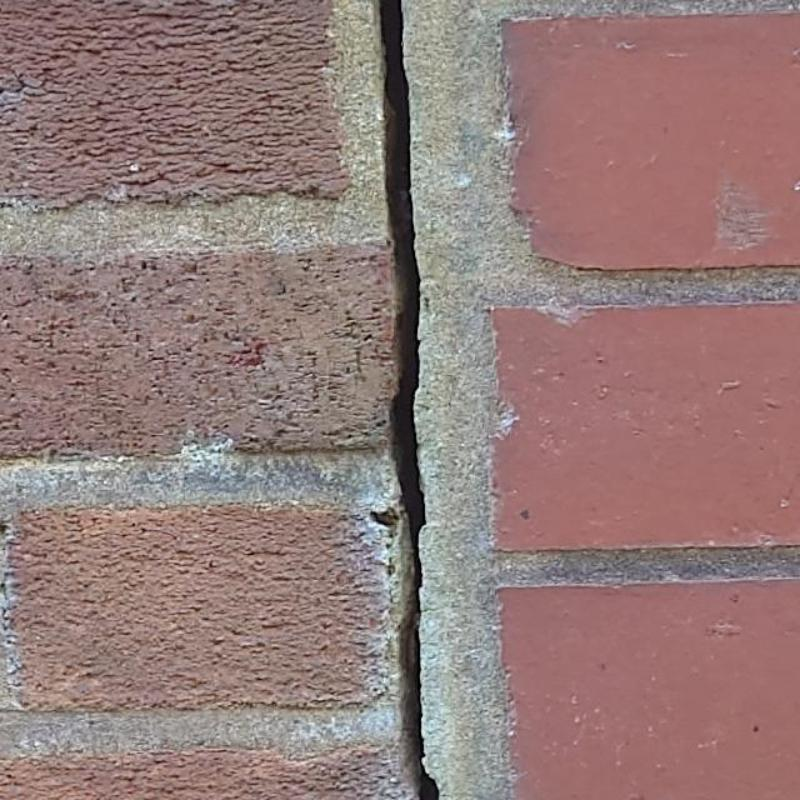pothole: (379, 0, 438, 799)
